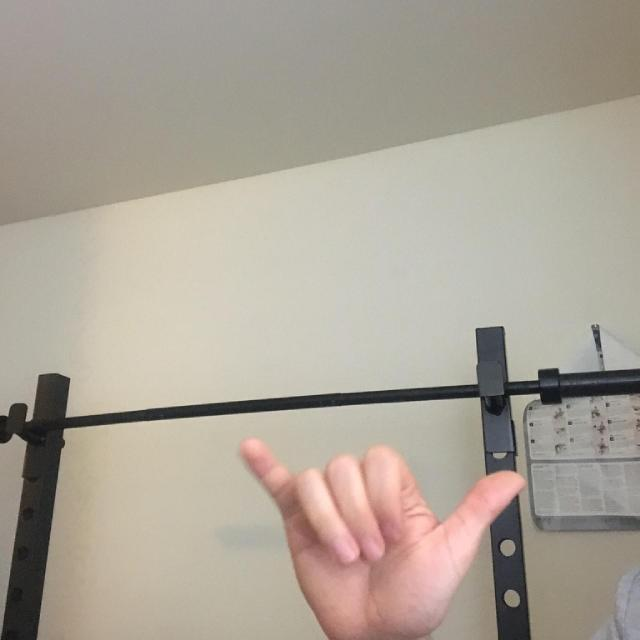Y: (217, 410, 555, 640)
